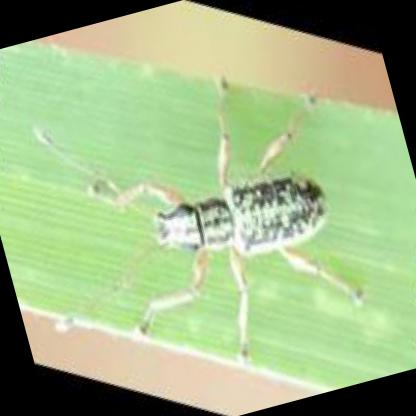ash weevil: (36, 82, 331, 357)
